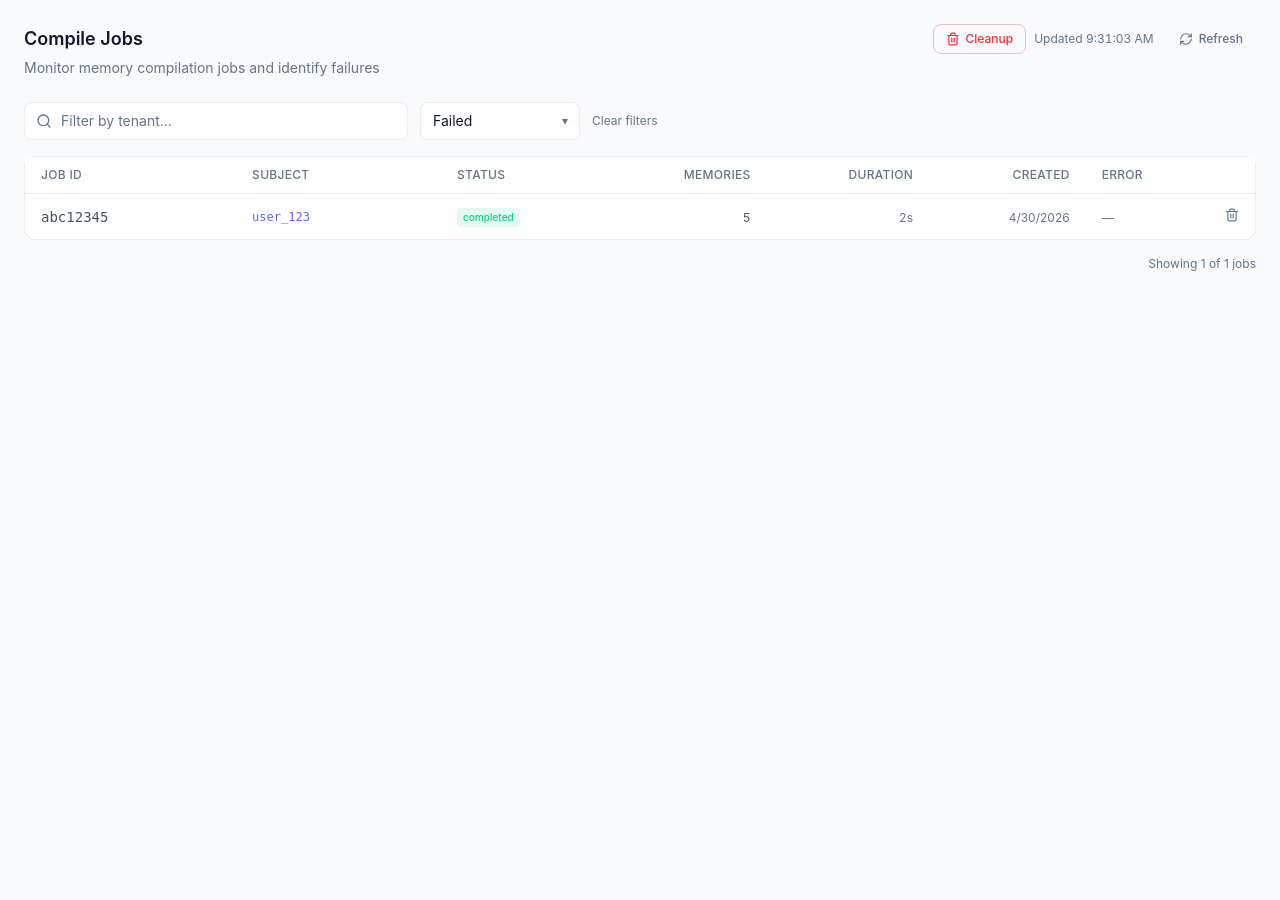
Test: JobsPage cleanup › a successful cleanup surfaces a "Deleted N compile jobs" toast
What coordinates should you click on to do the following:
click the button "Cleanup"
I would click on:
 (979, 39)
Its box is [932,24,1026,54].
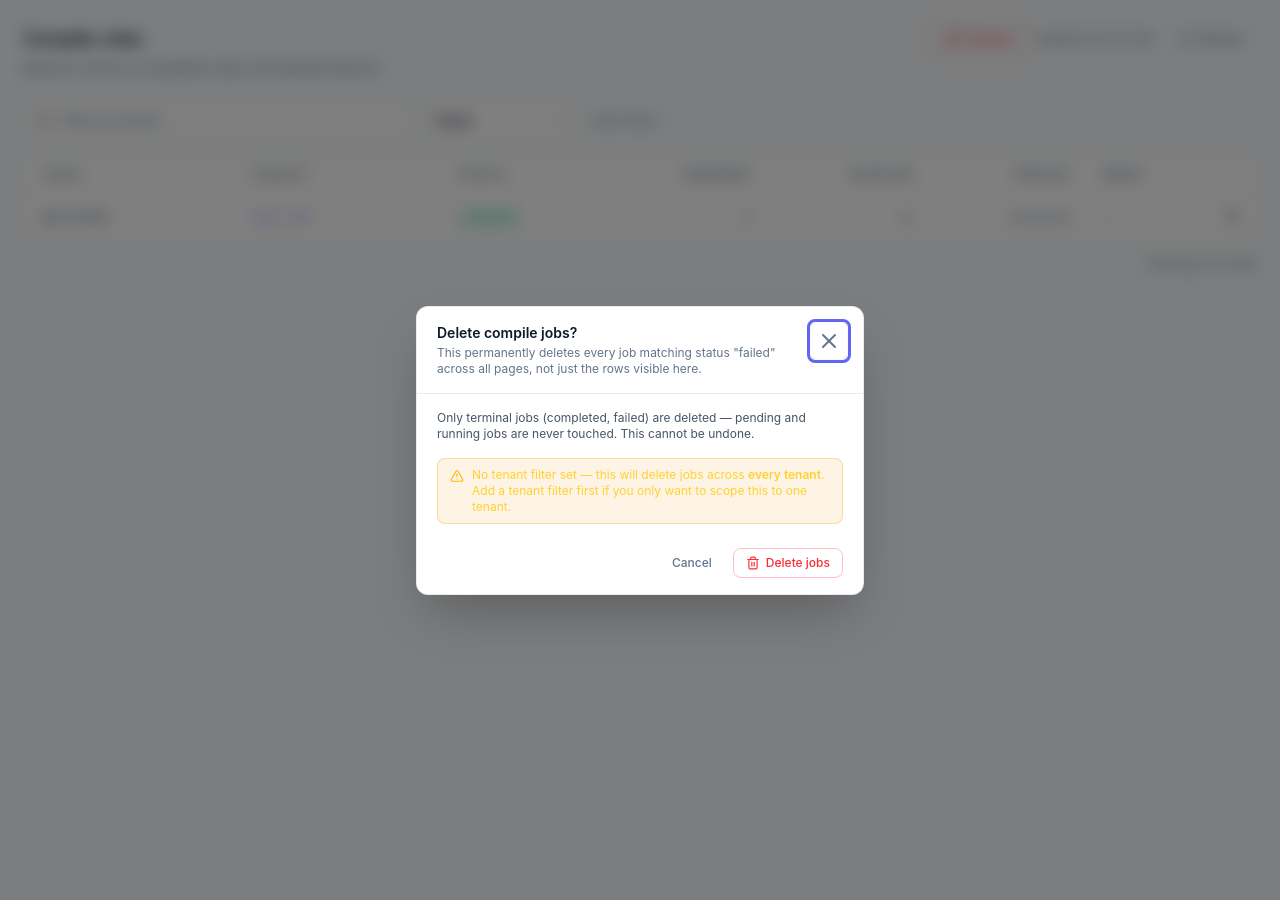
What coordinates should you click on to do the following:
click the button "Delete jobs"
I would click on:
 (788, 562)
Its box is [733,548,843,578].
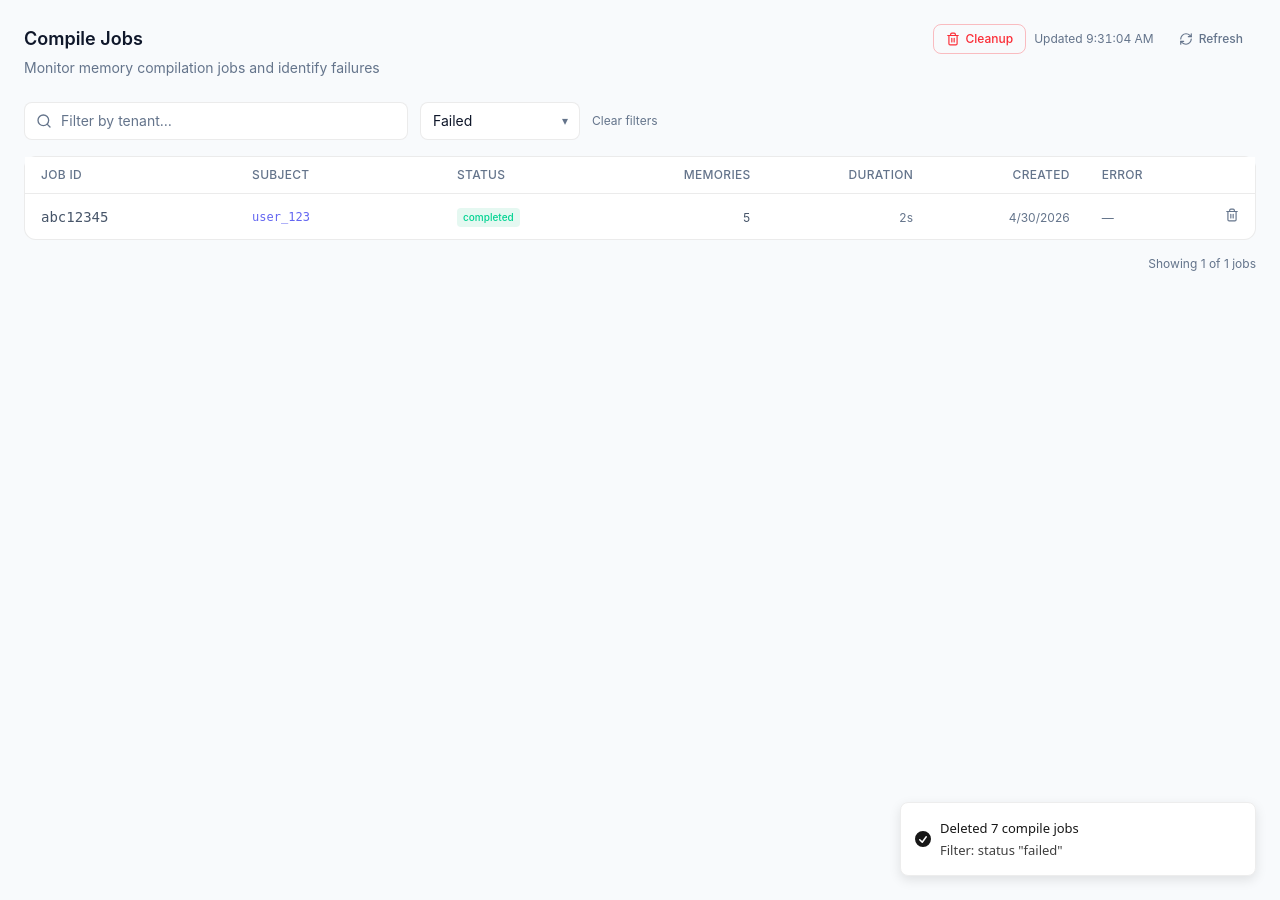
Result: the text "Deleted 7 compile jobs" is shown at [940,819,1079,839]
